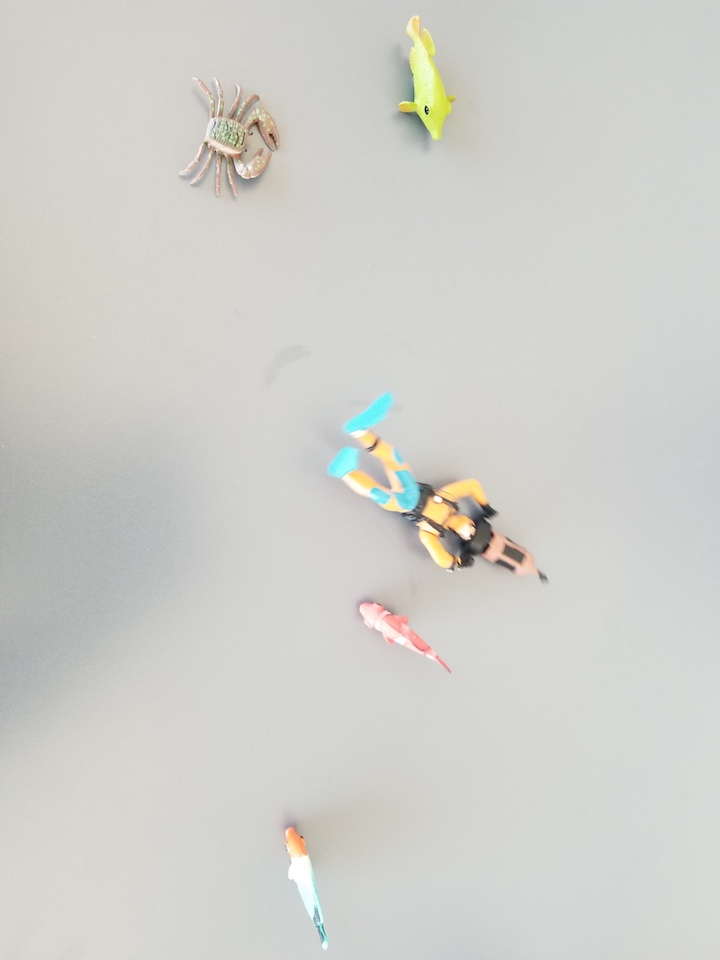diver: (329, 391, 553, 593)
fish: (355, 596, 458, 680), (399, 14, 459, 146), (282, 827, 333, 954)
